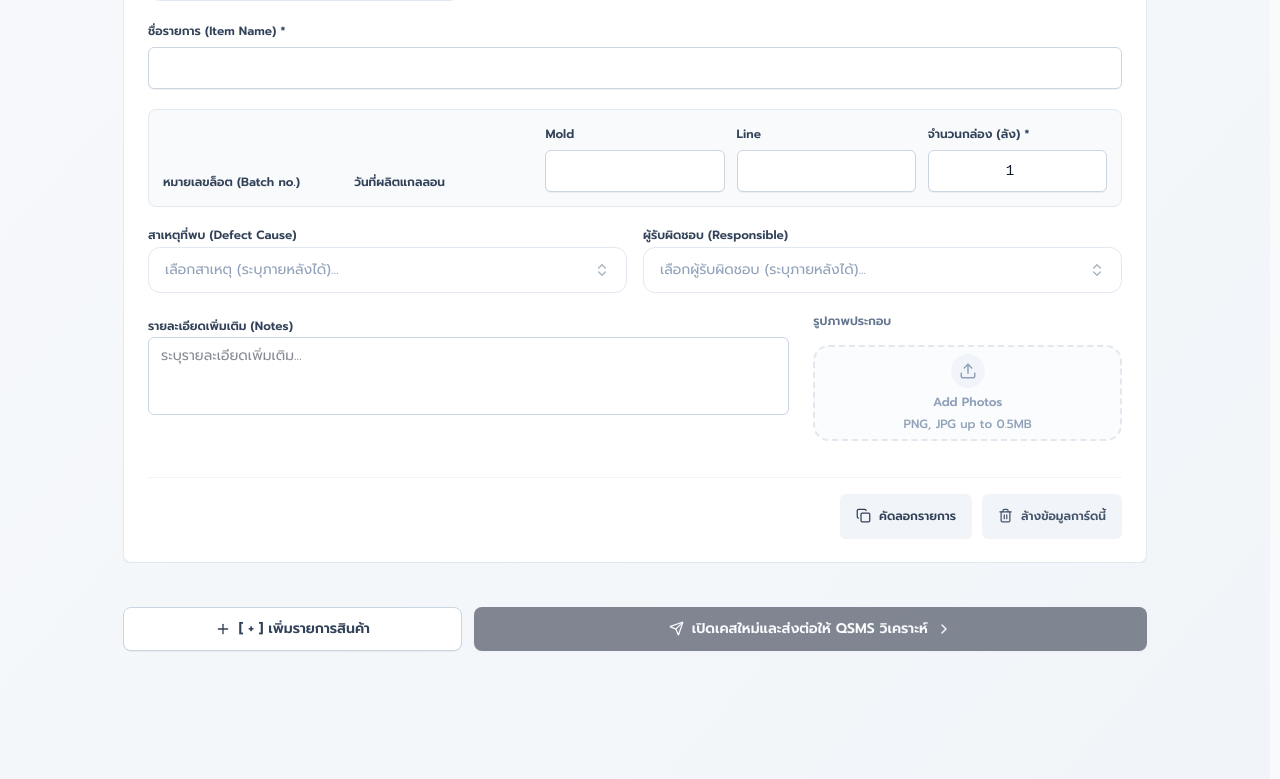
Scenario: 4-Stage Stepper Workflow & Role-Based Authorization › allows duplicating and adding multiple items without limit
This screenshot has width=1280, height=779.
(page scrolled)
Click duplicate button on item 1
Click the button "คัดลอกรายการ" at (906, 516), box [840, 494, 972, 538]
(page scrolled)
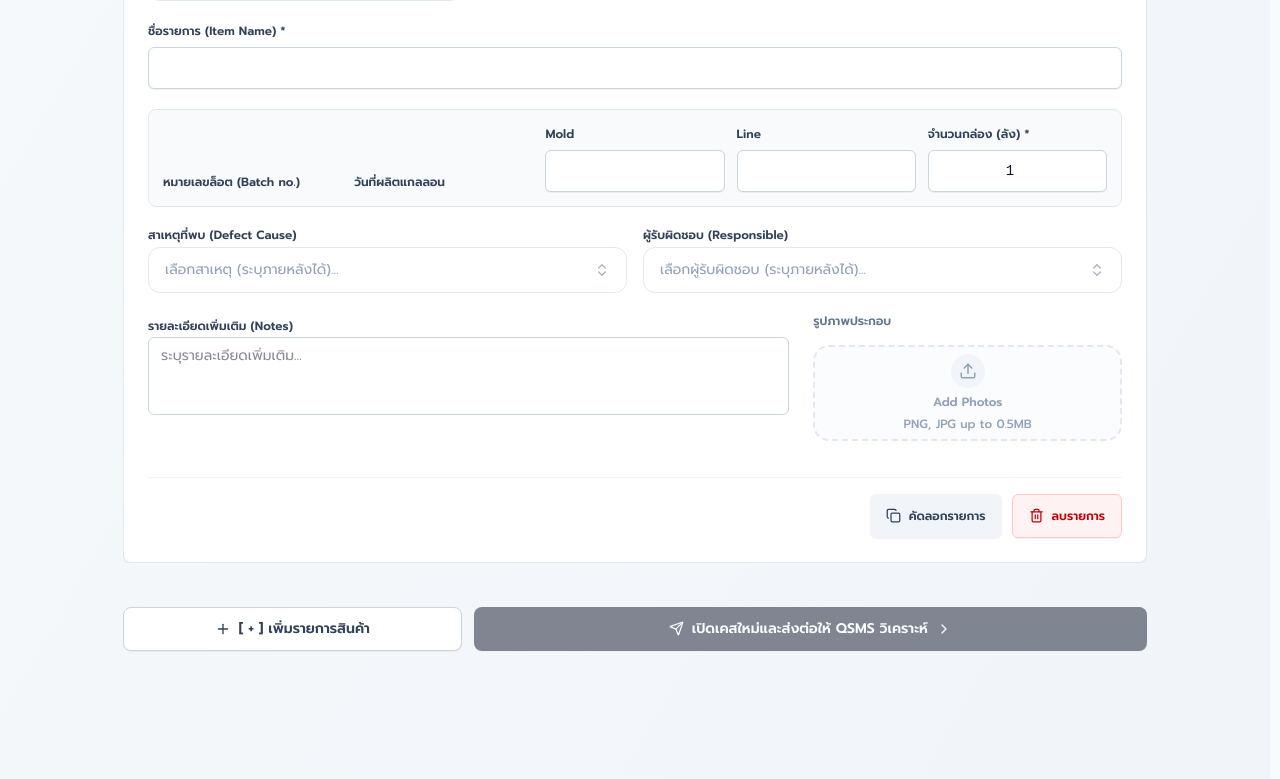
Click Add item button
Click the button "[ + ] เพิ่มรายการสินค้า" at (292, 628), box [123, 606, 462, 650]
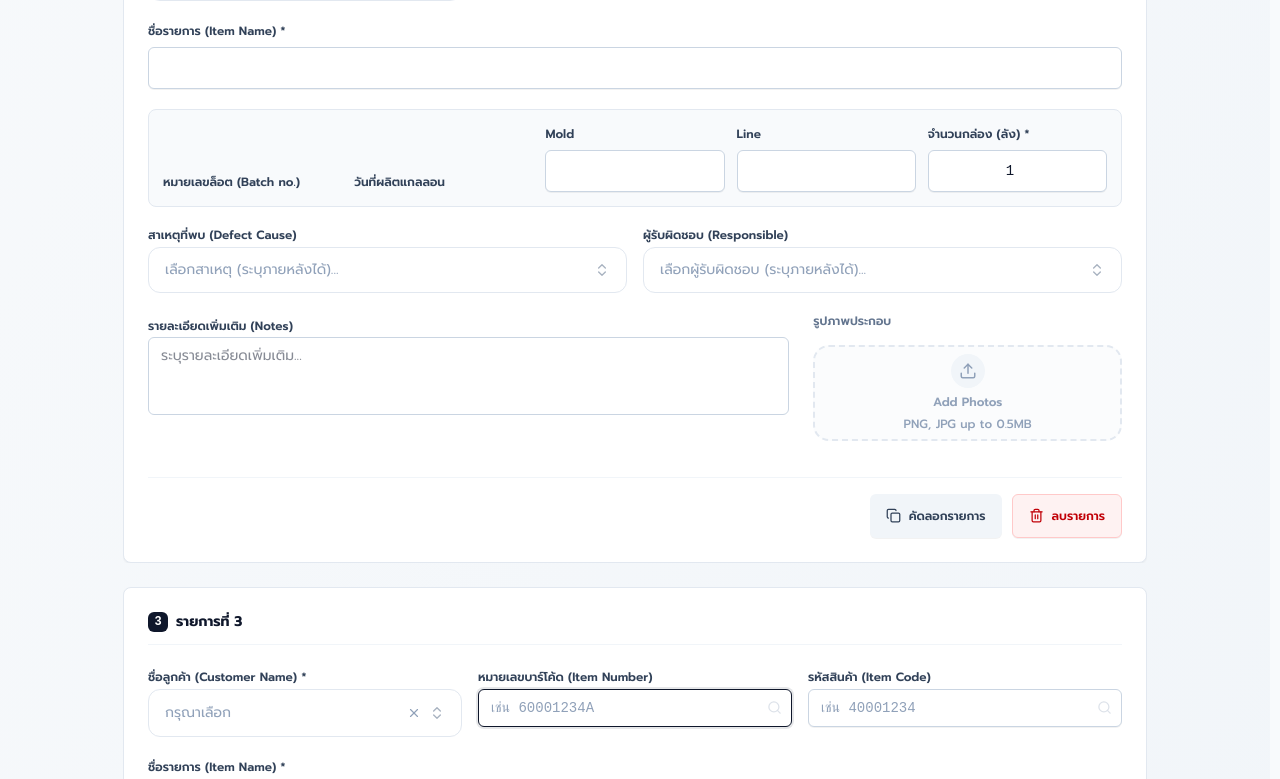
Expected: the text "รายการที่" is shown 3 times
